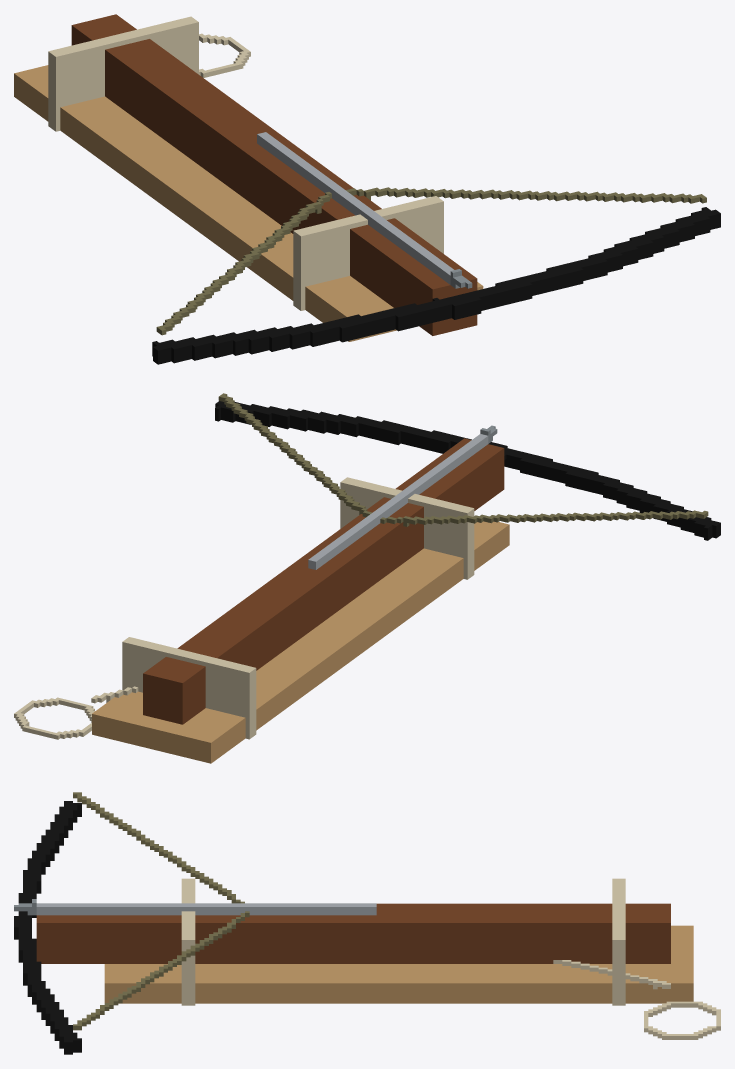
Rendered from crossbow_trap.glb.
The picture shows the model from 3 angles, top to bottom: view 1: azimuth 30°, elevation 25°; view 2: azimuth 150°, elevation 25°; view 3: azimuth 270°, elevation 25°; orthographic projection. The views are drawn at different scales.
Parts seen in each view (by area): view 1: crossbow_trap:compound; view 2: crossbow_trap:compound; view 3: crossbow_trap:compound.
Boxes of the visible parts, x1,y1,x2,y2 form: crossbow_trap:compound: [14, 14, 720, 364]; crossbow_trap:compound: [14, 393, 720, 763]; crossbow_trap:compound: [14, 792, 720, 1054].
Size of the model in its own units: 0.504 by 0.072 by 0.624.
